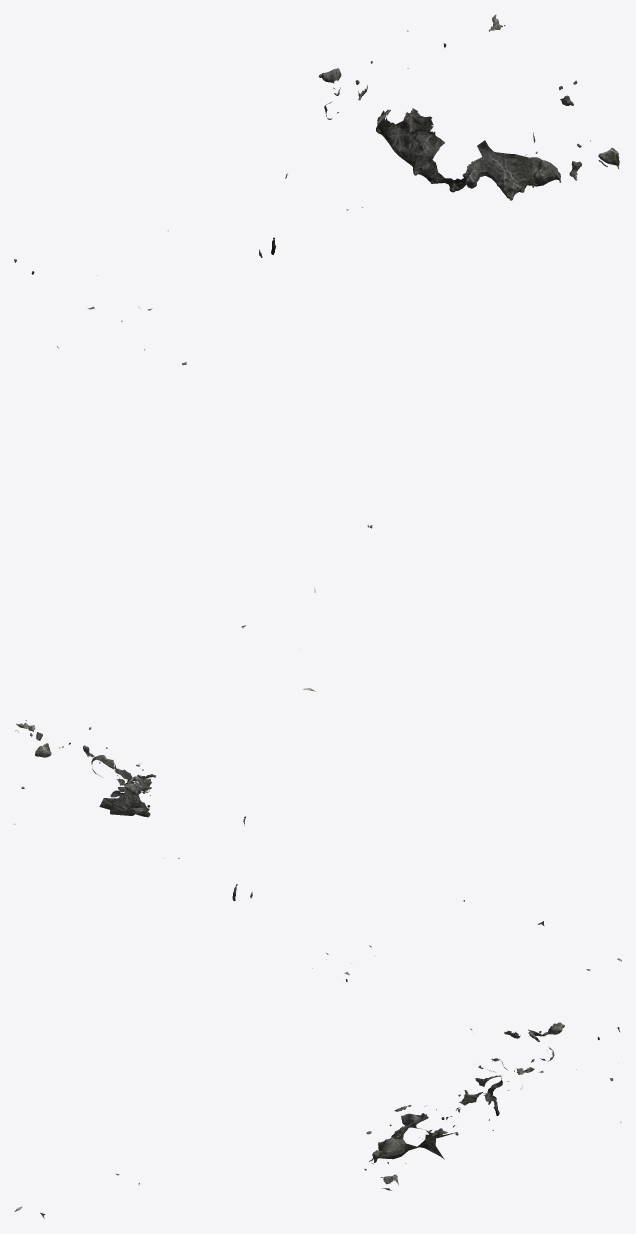
3 renders of one model, top to bottom at view 1: azimuth 30°, elevation 25°; view 2: azimuth 150°, elevation 25°; view 3: azimuth 270°, elevation 25°, orthographic. The views are drawn at different scales.
Size of the model in its own units: 24.06 by 16.16 by 25.08.
1 material, 1 textured.
